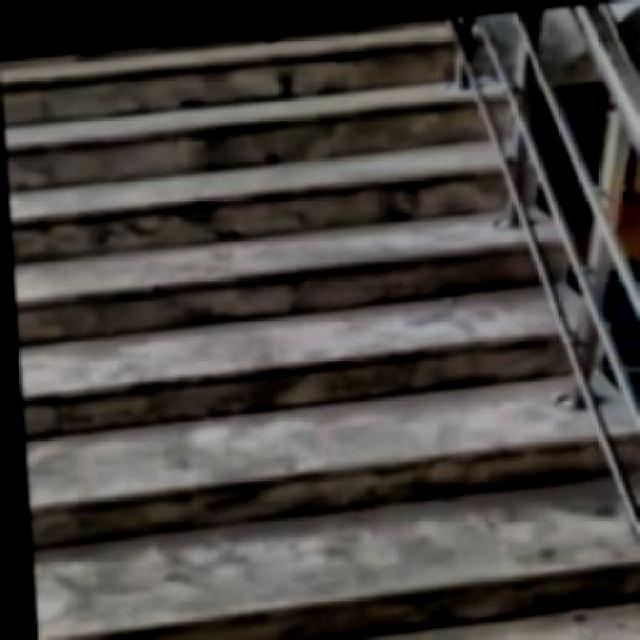stair: (0, 1, 636, 638)
